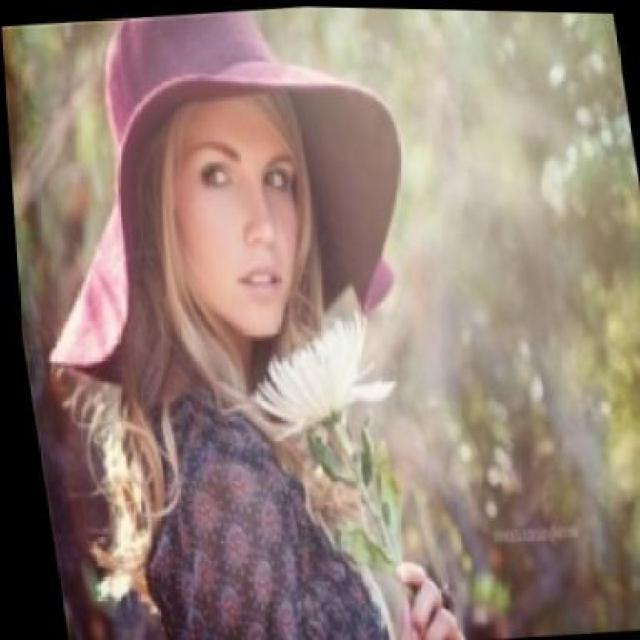hat: (43, 9, 401, 368)
